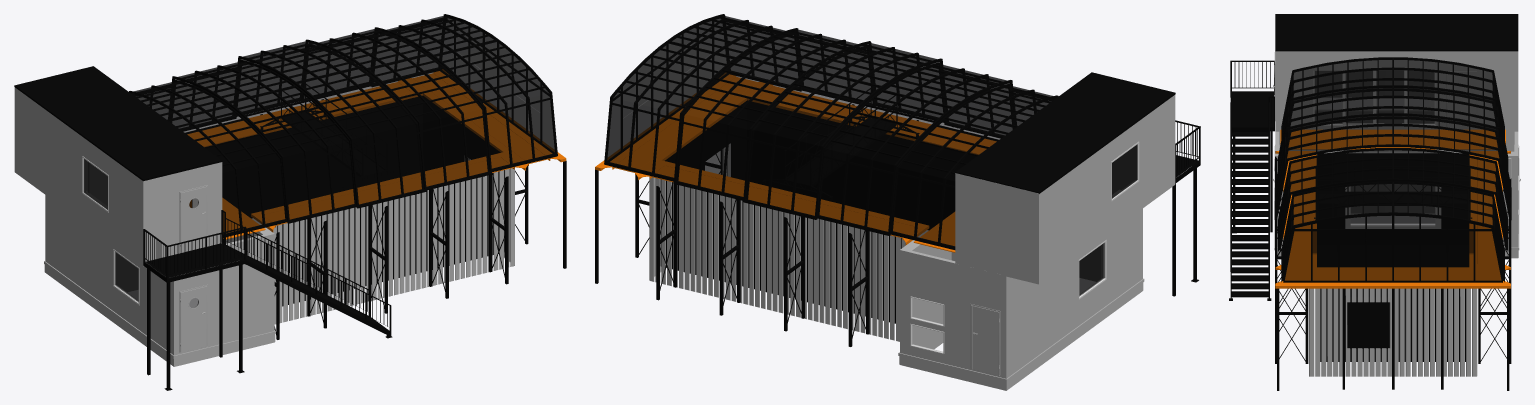
Rendered from Test-Tank_CleanedModel-2.fbx.
The picture shows the model from 3 angles, left to right: view 1: azimuth 30°, elevation 25°; view 2: azimuth 150°, elevation 25°; view 3: azimuth 270°, elevation 25°; orthographic projection. The views are drawn at different scales.
Parts seen in each view (by area): view 1: Outer plating, Pool roof glas, Pool roof frame, Tank innner walls, Office roof, Terrass, Stairs (outer), Terrass frame, External doors, Pool bridge, Office window glass, Pool roof windows (+2 smaller); view 2: Outer plating, Pool roof glas, Pool roof frame, Tank innner walls, Office roof, Terrass, Terrass frame, Pool bridge, Stairs (outer), Office window glass, External doors, Pool roof windows (+1 smaller); view 3: Pool roof glas, Outer plating, Pool roof frame, Tank innner walls, Terrass, Office roof, Stairs (outer), Terrass frame, Pool windows, Office window glass, Pool roof windows, Pool bridge (+2 smaller).
Boxes of the visible parts, x1=… form: Outer plating: x1=14, y1=87, x2=514, y2=366; Pool roof glas: x1=130, y1=15, x2=555, y2=233; Pool roof frame: x1=129, y1=14, x2=557, y2=237; Tank innner walls: x1=207, y1=96, x2=504, y2=306; Office roof: x1=14, y1=66, x2=222, y2=181; Terrass: x1=187, y1=70, x2=566, y2=239; Stairs (outer): x1=143, y1=210, x2=392, y2=390; Terrass frame: x1=260, y1=99, x2=566, y2=339; External doors: x1=180, y1=186, x2=207, y2=352; Pool bridge: x1=260, y1=83, x2=407, y2=190; Office window glass: x1=83, y1=159, x2=191, y2=301; Pool roof windows: x1=456, y1=31, x2=539, y2=112; Outer plating: x1=649, y1=95, x2=1175, y2=390; Pool roof glas: x1=606, y1=16, x2=1056, y2=246; Pool roof frame: x1=604, y1=14, x2=1058, y2=249; Tank innner walls: x1=660, y1=100, x2=974, y2=323; Office roof: x1=955, y1=72, x2=1175, y2=193; Terrass: x1=595, y1=73, x2=996, y2=252; Terrass frame: x1=595, y1=104, x2=918, y2=346; Pool bridge: x1=762, y1=87, x2=919, y2=200; Stairs (outer): x1=1172, y1=120, x2=1200, y2=296; Office window glass: x1=1079, y1=144, x2=1137, y2=296; External doors: x1=971, y1=305, x2=999, y2=375; Pool roof windows: x1=623, y1=29, x2=712, y2=118; Pool roof glas: x1=1276, y1=59, x2=1509, y2=280; Outer plating: x1=1274, y1=51, x2=1519, y2=376; Pool roof frame: x1=1274, y1=57, x2=1511, y2=282; Tank innner walls: x1=1317, y1=153, x2=1468, y2=361; Terrass: x1=1275, y1=129, x2=1510, y2=288; Office roof: x1=1275, y1=14, x2=1518, y2=51; Stairs (outer): x1=1229, y1=60, x2=1274, y2=300; Terrass frame: x1=1275, y1=156, x2=1511, y2=390; Pool windows: x1=1347, y1=184, x2=1434, y2=348; Office window glass: x1=1315, y1=71, x2=1434, y2=151; Pool roof windows: x1=1311, y1=229, x2=1475, y2=254; Pool bridge: x1=1314, y1=167, x2=1471, y2=219.
Size of the model in its own units: 1503 by 949 by 659.
